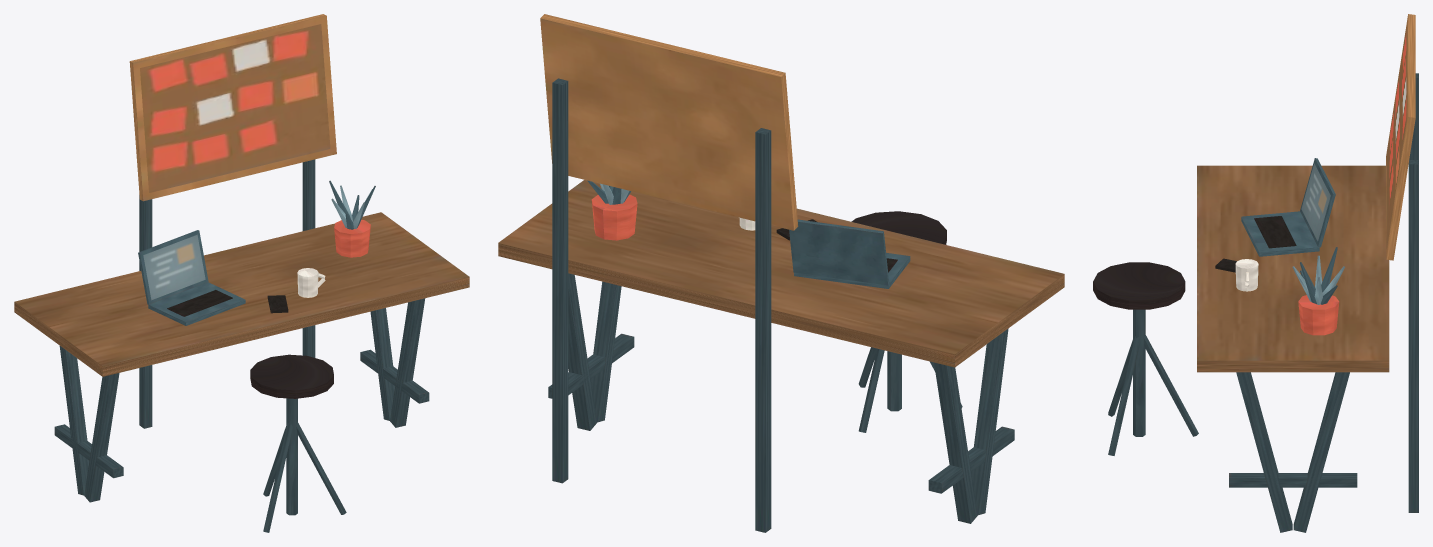
File: prop-2-startup.glb
The picture shows the model from 3 angles, left to right: view 1: azimuth 30°, elevation 25°; view 2: azimuth 150°, elevation 25°; view 3: azimuth 270°, elevation 25°; orthographic projection. The views are drawn at different scales.
Visible parts, largest first — view 1: geometry_0; view 2: geometry_0; view 3: geometry_0.
Part boxes in pixels (x1=…): geometry_0: x1=14, y1=14, x2=469, y2=532; geometry_0: x1=498, y1=14, x2=1064, y2=532; geometry_0: x1=1093, y1=14, x2=1418, y2=532.
Size of the model in its own units: 1.8 by 1.74 by 1.27.
1 material, 1 textured.
